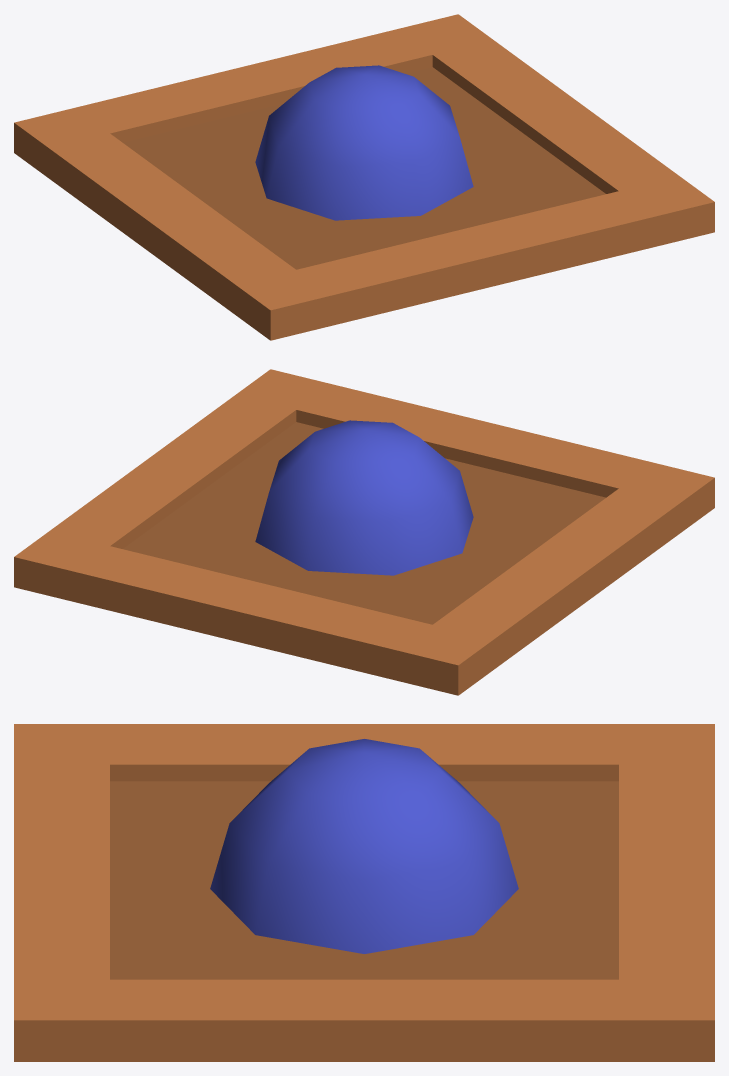
Rendered from Artifact_01_Square.fbx.
3 renders of one model, top to bottom at view 1: azimuth 30°, elevation 25°; view 2: azimuth 150°, elevation 25°; view 3: azimuth 270°, elevation 25°, orthographic. The views are drawn at different scales.
Visible parts, largest first — view 1: Artifact_01_Square; view 2: Artifact_01_Square; view 3: Artifact_01_Square.
Part boxes in pixels (x1=…): Artifact_01_Square: x1=14, y1=14, x2=714, y2=340; Artifact_01_Square: x1=14, y1=369, x2=714, y2=695; Artifact_01_Square: x1=14, y1=724, x2=714, y2=1061.
Bounding box in the file's own units: 0.1021 × 0.0419 × 0.1021.
